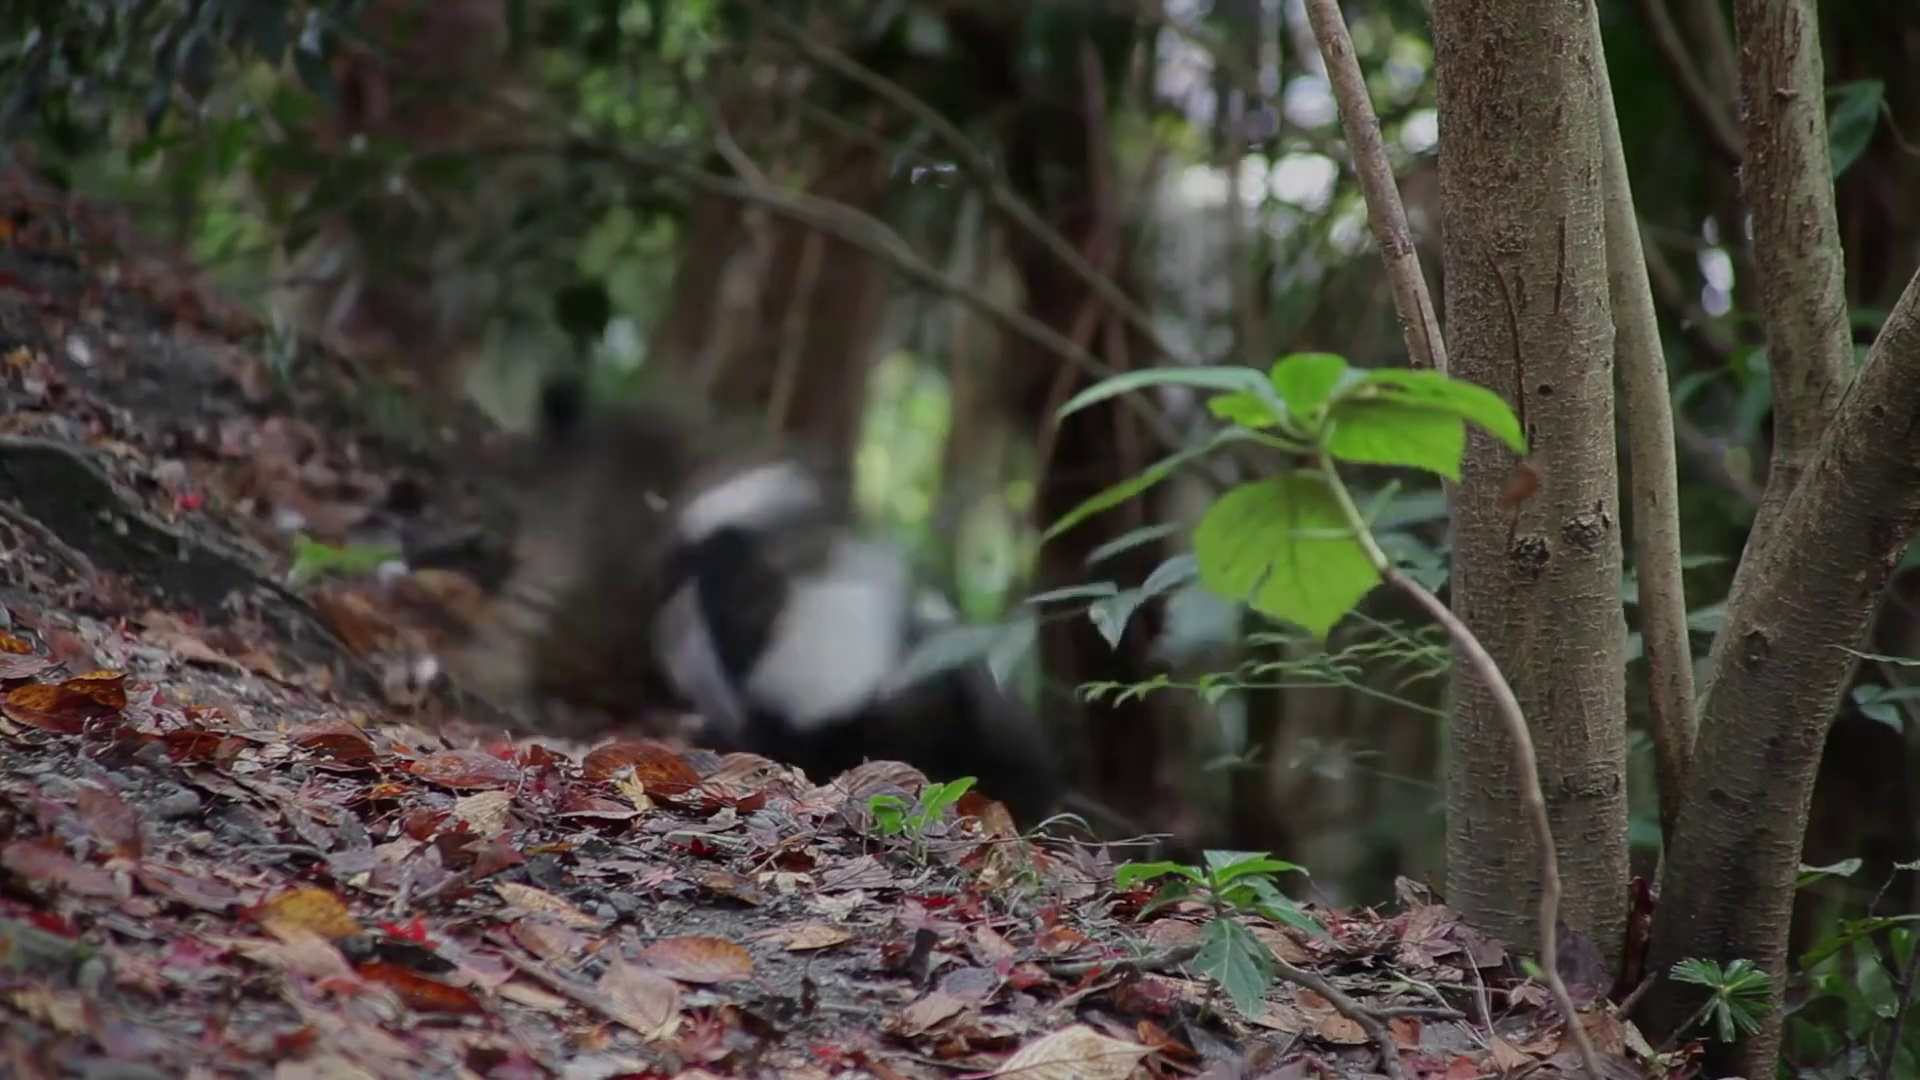black-white: (529, 418, 1044, 771)
pure black: (634, 458, 1004, 673)
